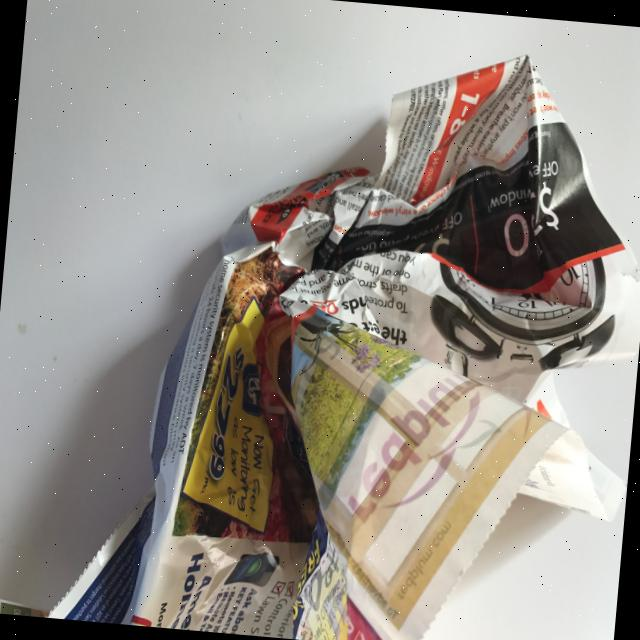paper: (47, 16, 640, 640)
